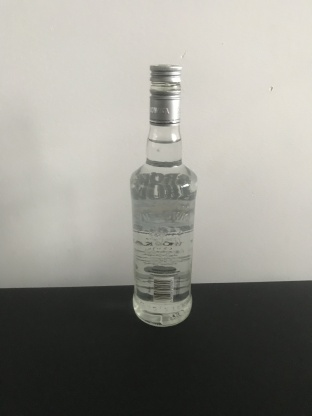nakretka: (148, 64, 182, 126)
